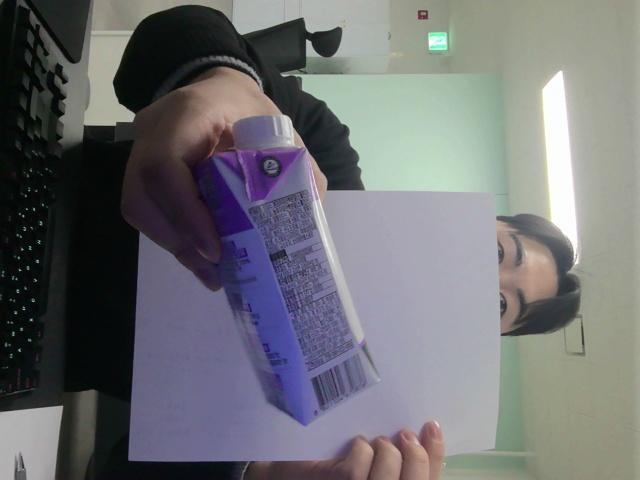milk: (195, 115, 378, 424)
